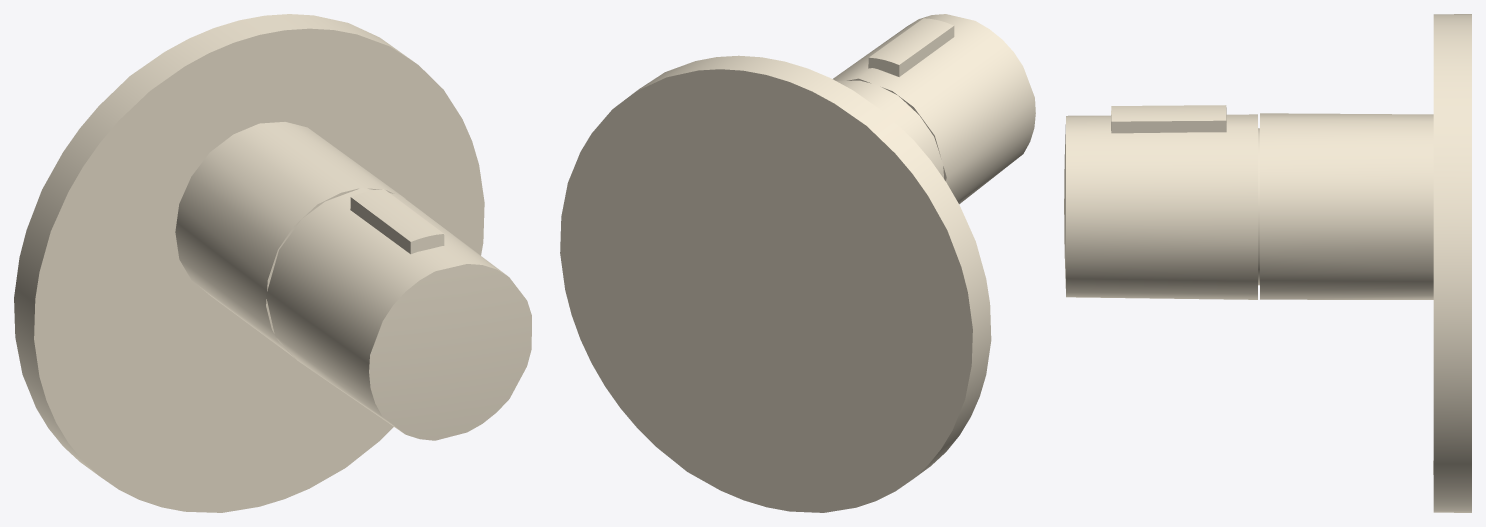
3 views of the same model, side by side, from view 1: azimuth 30°, elevation 25°; view 2: azimuth 150°, elevation 25°; view 3: azimuth 270°, elevation 25° (orthographic). The views are drawn at different scales.
Visible parts, largest first — view 1: L_001d4e90_b90e_49b1_b53e_22cdabfa5212_I1, L_a95225d1_f35d_44fa_8cc6_a15221495ef3_I4, L_a77d6a40_d3d5_4eb9_abf4_3b8f9d93f960_I3, L_50a2261a_14d6_4da1_98d8_0f7c1b97794b_I2; view 2: L_001d4e90_b90e_49b1_b53e_22cdabfa5212_I1, L_a95225d1_f35d_44fa_8cc6_a15221495ef3_I4, L_50a2261a_14d6_4da1_98d8_0f7c1b97794b_I2, L_a77d6a40_d3d5_4eb9_abf4_3b8f9d93f960_I3; view 3: L_a95225d1_f35d_44fa_8cc6_a15221495ef3_I4, L_a77d6a40_d3d5_4eb9_abf4_3b8f9d93f960_I3, L_001d4e90_b90e_49b1_b53e_22cdabfa5212_I1, L_50a2261a_14d6_4da1_98d8_0f7c1b97794b_I2.
Boxes of the visible parts, x1,y1,x2,y2 form: L_001d4e90_b90e_49b1_b53e_22cdabfa5212_I1: (14, 14, 484, 512); L_a95225d1_f35d_44fa_8cc6_a15221495ef3_I4: (266, 188, 531, 440); L_a77d6a40_d3d5_4eb9_abf4_3b8f9d93f960_I3: (175, 122, 407, 358); L_50a2261a_14d6_4da1_98d8_0f7c1b97794b_I2: (350, 189, 444, 254); L_001d4e90_b90e_49b1_b53e_22cdabfa5212_I1: (560, 55, 991, 512); L_a95225d1_f35d_44fa_8cc6_a15221495ef3_I4: (833, 14, 1035, 204); L_50a2261a_14d6_4da1_98d8_0f7c1b97794b_I2: (868, 18, 954, 76); L_a77d6a40_d3d5_4eb9_abf4_3b8f9d93f960_I3: (837, 80, 943, 178); L_a95225d1_f35d_44fa_8cc6_a15221495ef3_I4: (1064, 114, 1257, 299); L_a77d6a40_d3d5_4eb9_abf4_3b8f9d93f960_I3: (1260, 113, 1433, 299); L_001d4e90_b90e_49b1_b53e_22cdabfa5212_I1: (1433, 14, 1471, 512); L_50a2261a_14d6_4da1_98d8_0f7c1b97794b_I2: (1111, 105, 1226, 133).
Size of the model in its own units: 0.1234 by 0.1235 by 0.101.
